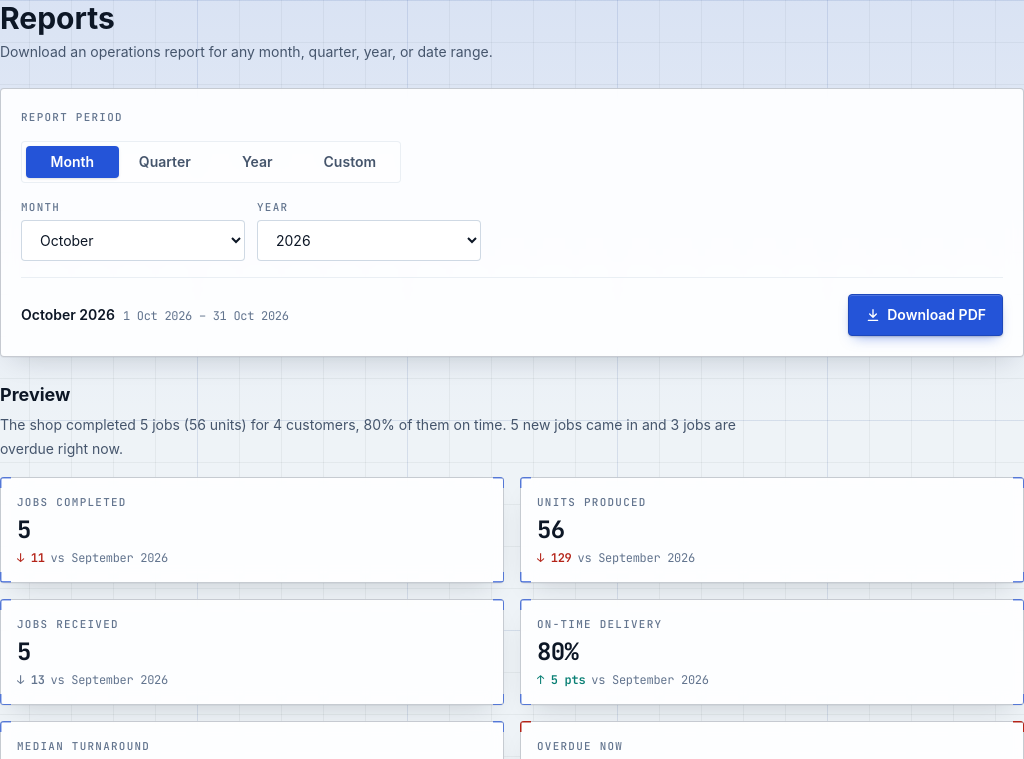
Reports page › rejects a backwards custom range and disables the download
Click the radio button labelled "Custom" at (350, 162), box x1=304 y1=146 x2=396 y2=178
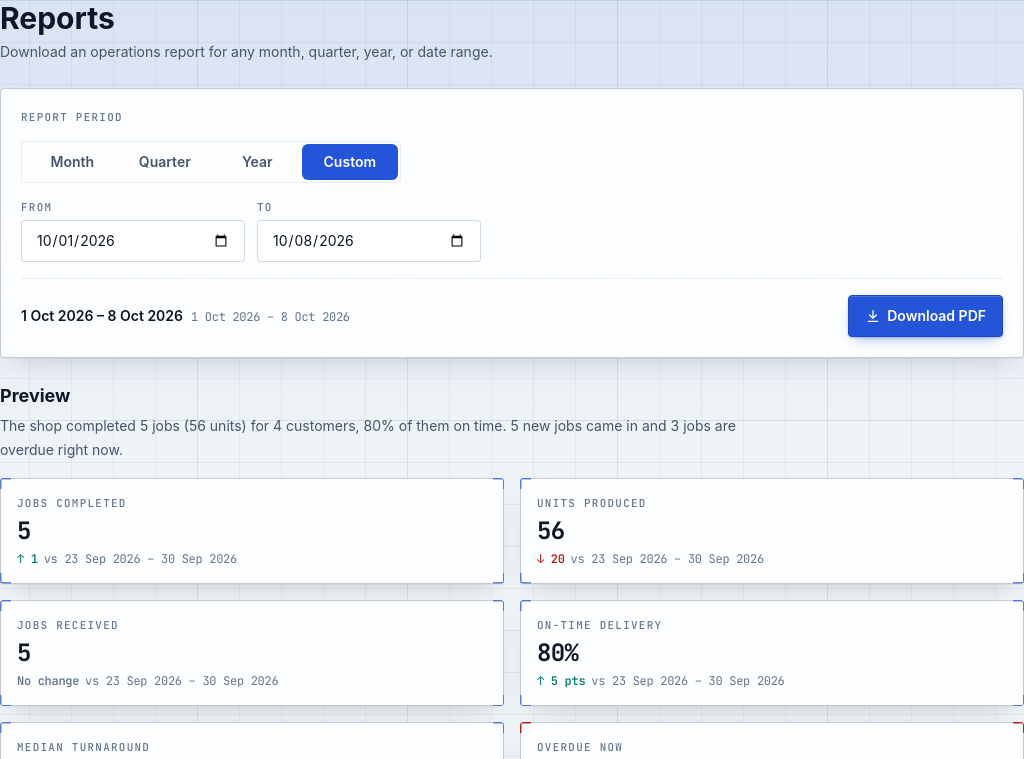
Type "2026-09-20" into the date field labelled "From" at (133, 241), box x1=21 y1=220 x2=245 y2=262
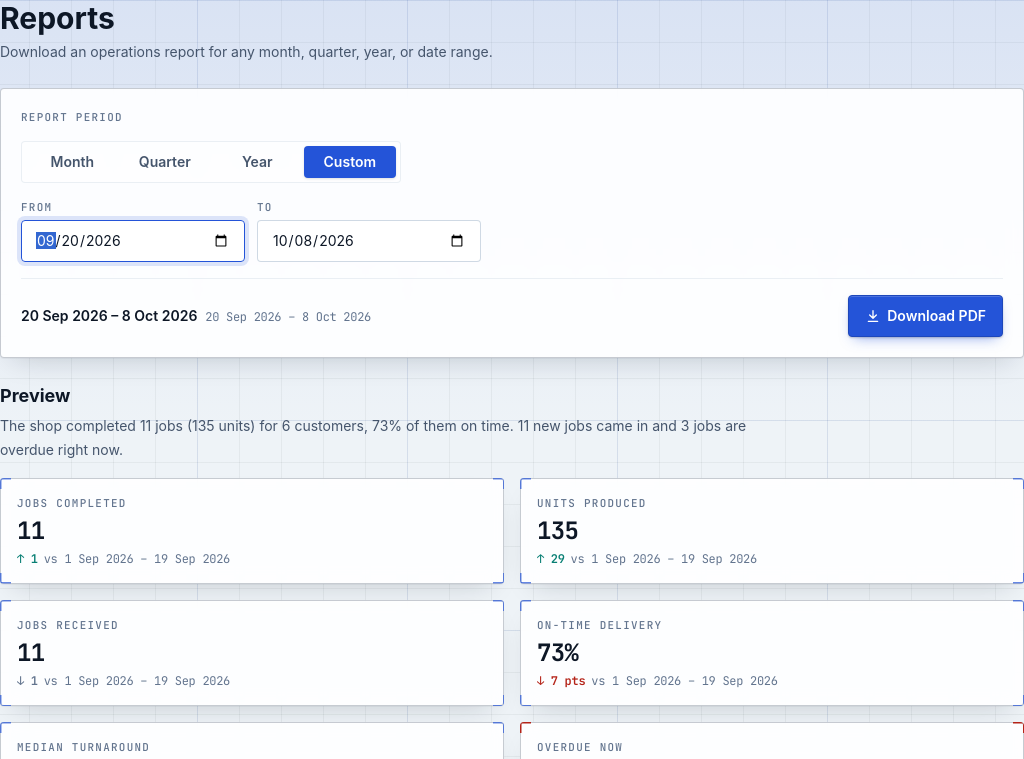
Type "2026-09-10" into the date field labelled "To" at (369, 241), box x1=257 y1=220 x2=481 y2=262
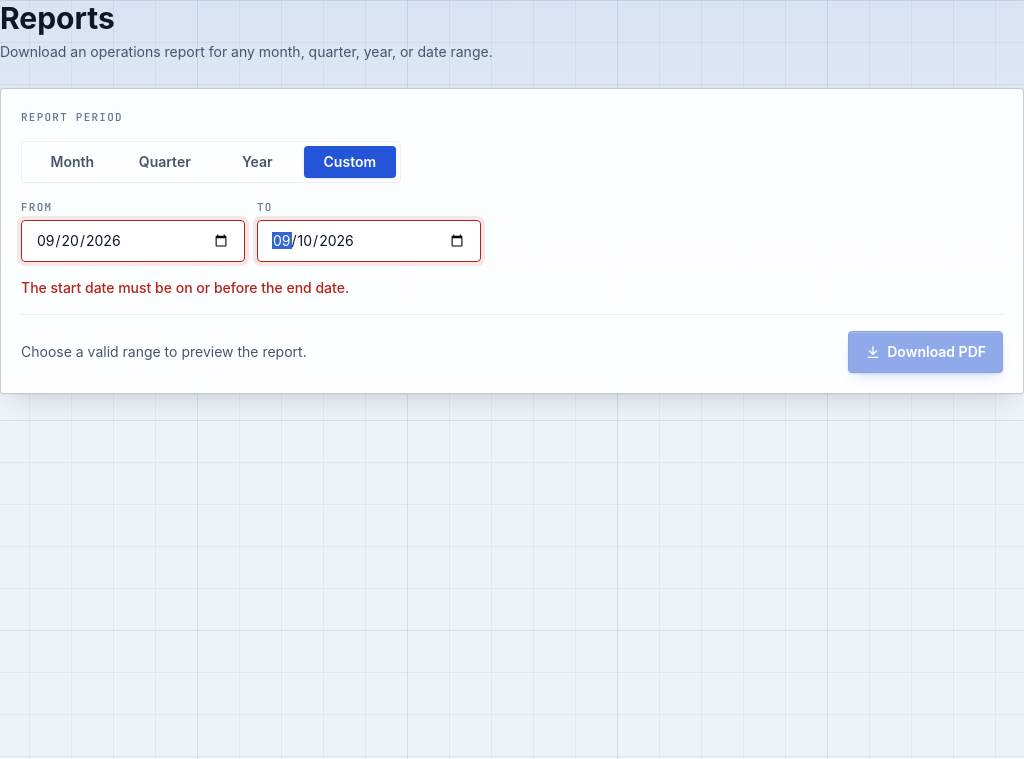
Expected: the button with test id "download-report" is disabled, x1=848 y1=331 x2=1003 y2=373
Expected: the message reads "The start date must be on or before the end date.", x1=21 y1=279 x2=349 y2=296
